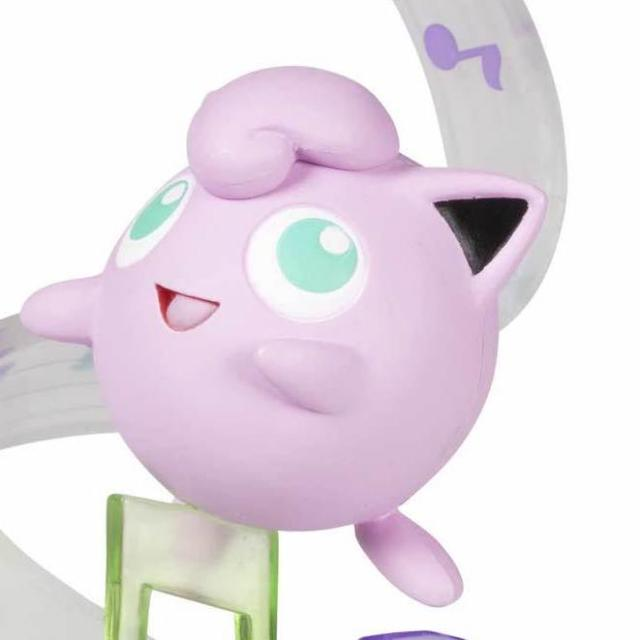Jigglypuff: (35, 46, 521, 609)
